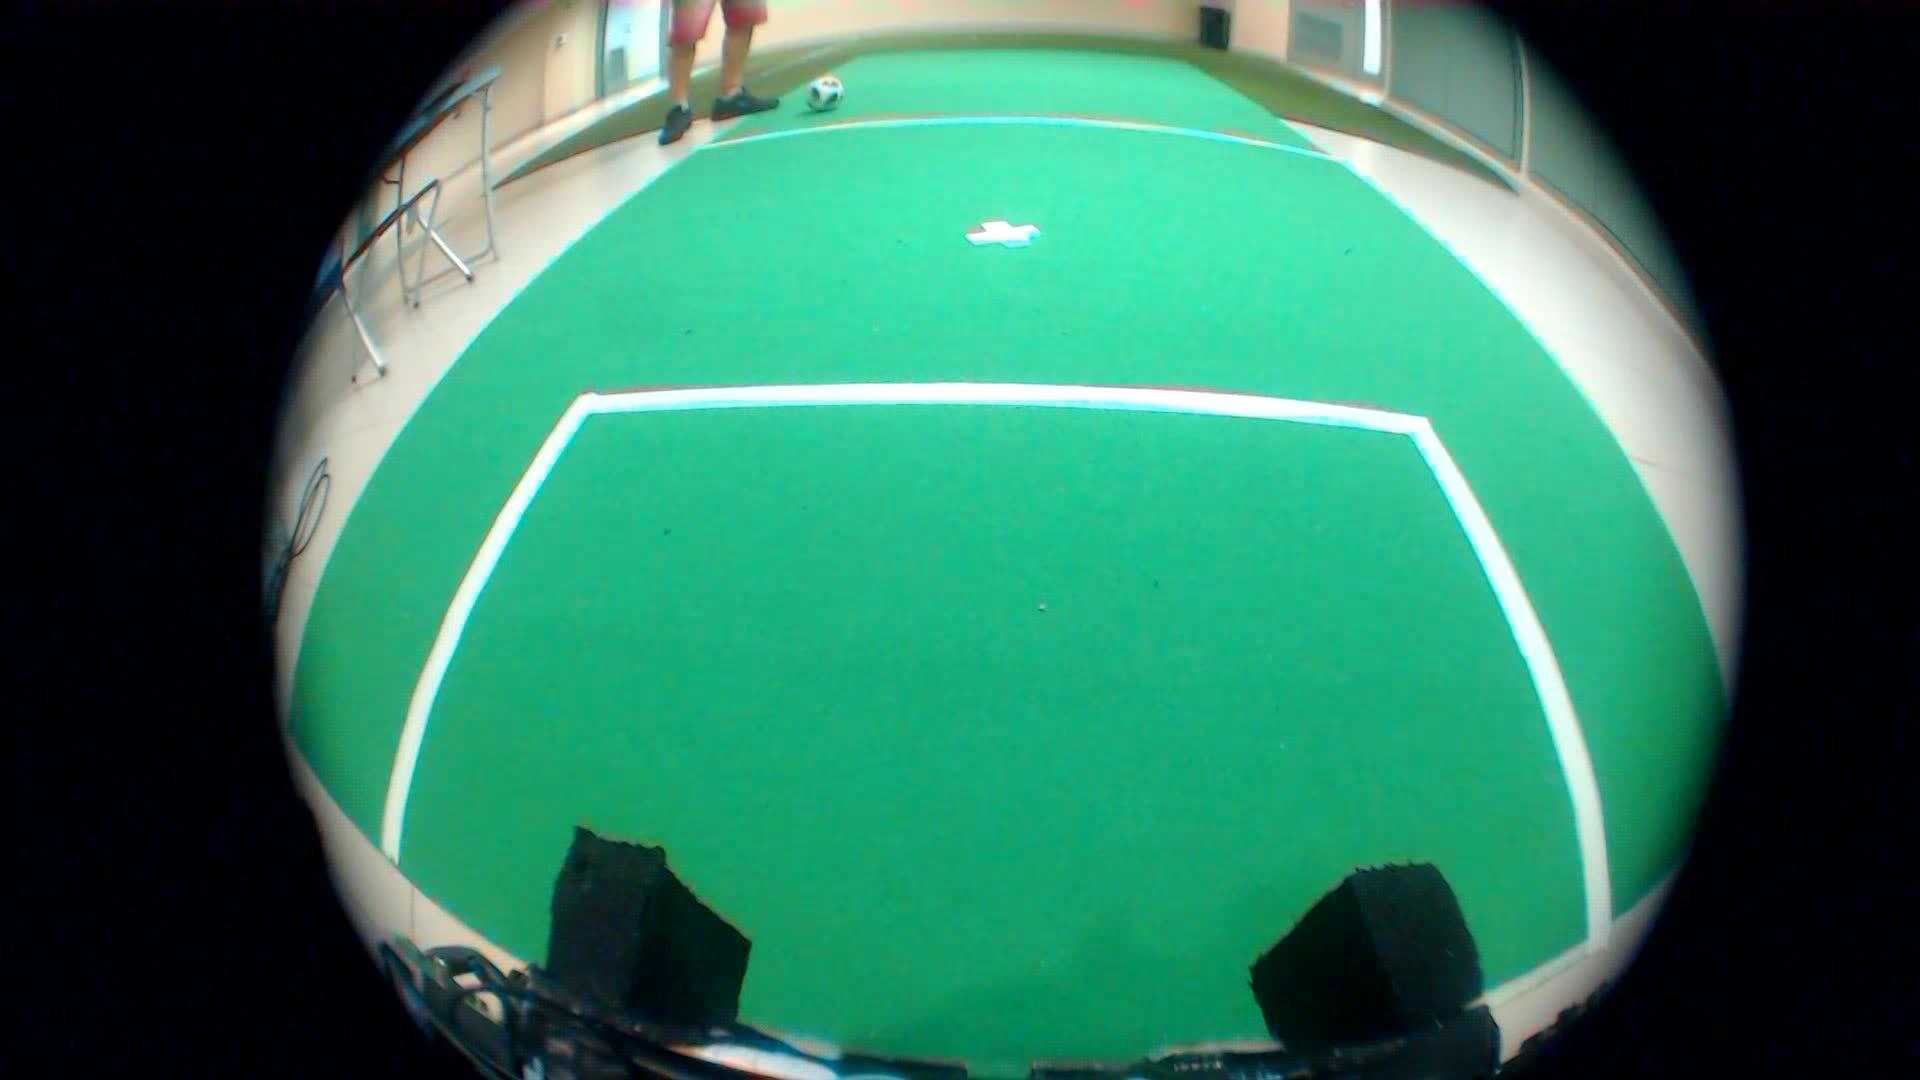ball: (795, 65, 847, 117)
